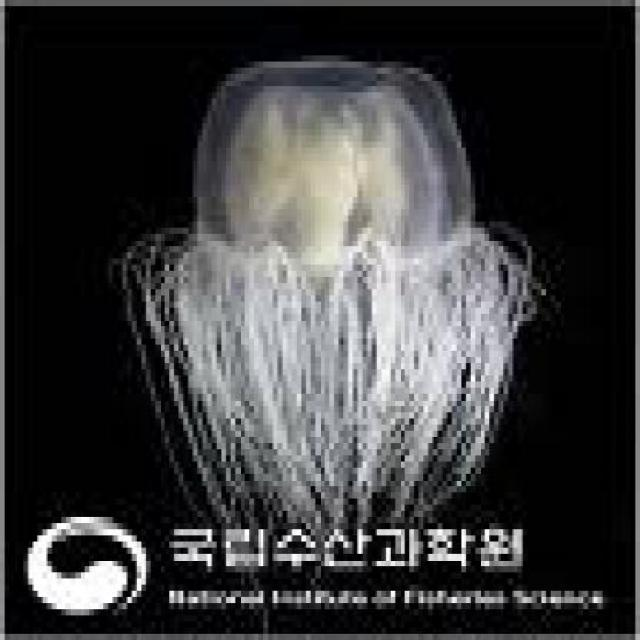Jellyfish: (94, 37, 542, 523)
